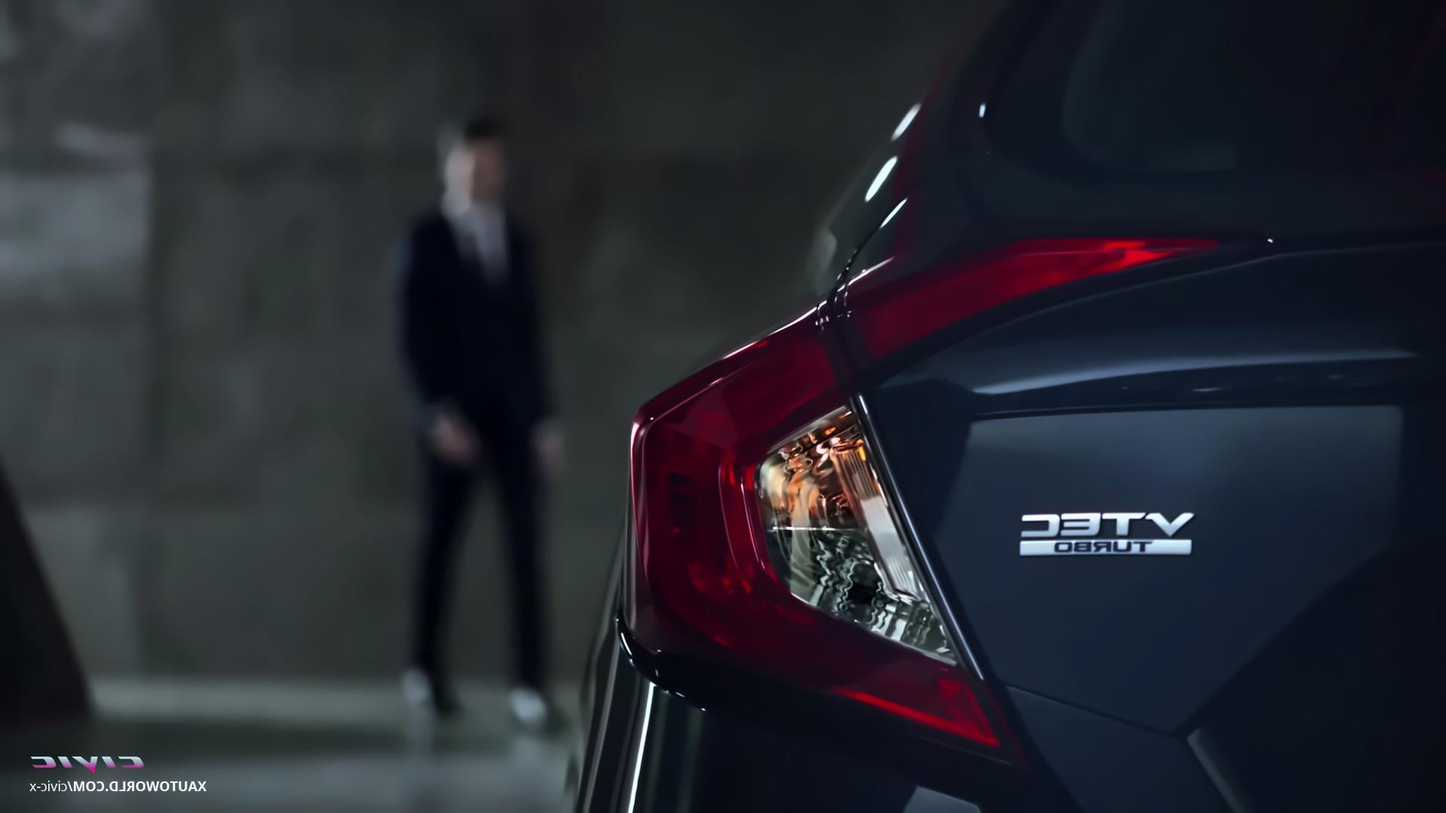Car boot: (842, 236, 1446, 813)
Rear bumper: (559, 597, 1073, 813)
Rear light - -L-: (615, 232, 1269, 813)
